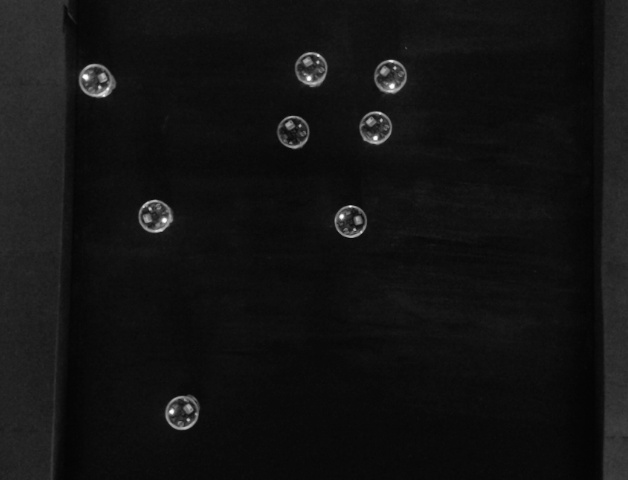epuck_2: (333, 204, 368, 240), (136, 200, 173, 234), (358, 111, 393, 146), (165, 395, 200, 430), (373, 57, 407, 93), (78, 64, 116, 96), (293, 52, 328, 86), (276, 116, 309, 148)
